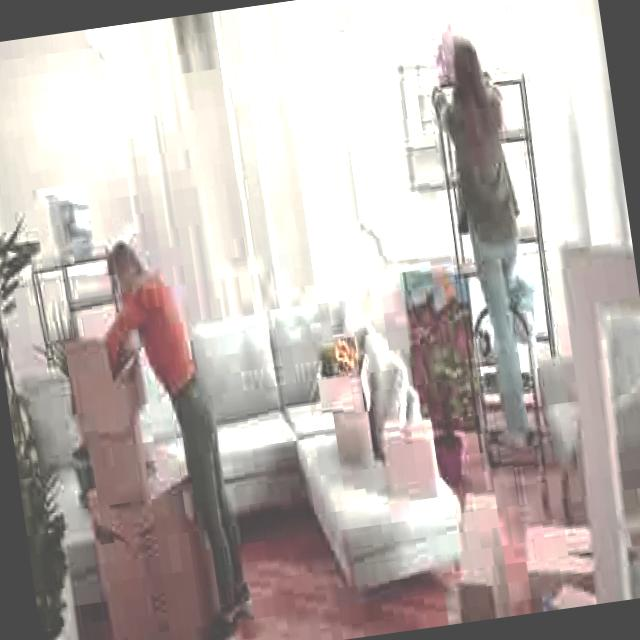Box: (96, 488, 217, 640), (442, 492, 514, 620), (70, 352, 155, 449), (374, 416, 443, 509), (518, 513, 593, 597), (315, 373, 382, 465), (84, 431, 150, 512)
